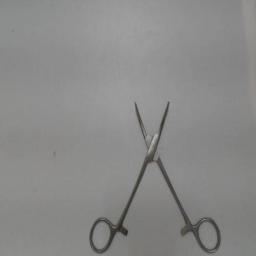Crile Artery Forceps: (82, 96, 222, 254)
